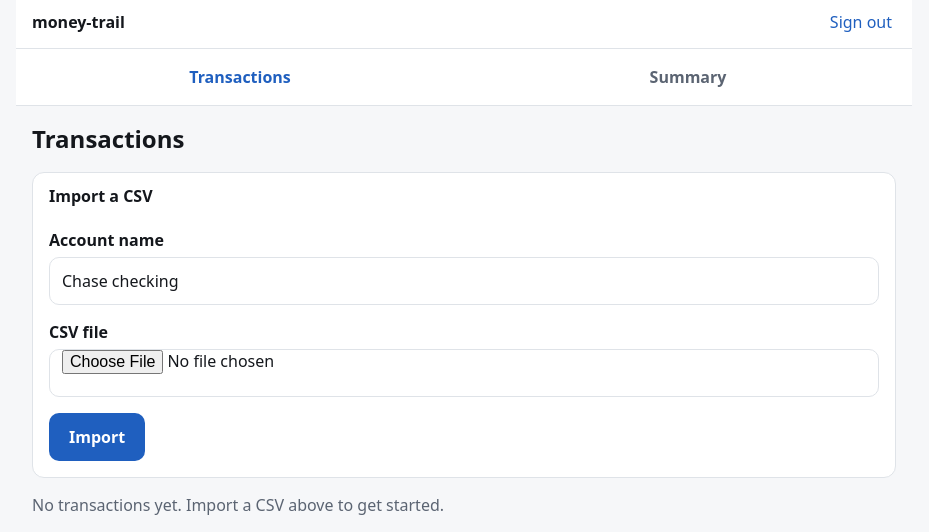
Test: session gate and routing › navigates between the two screens
Click the link "Summary" at (688, 77), box [650,66,726,88]
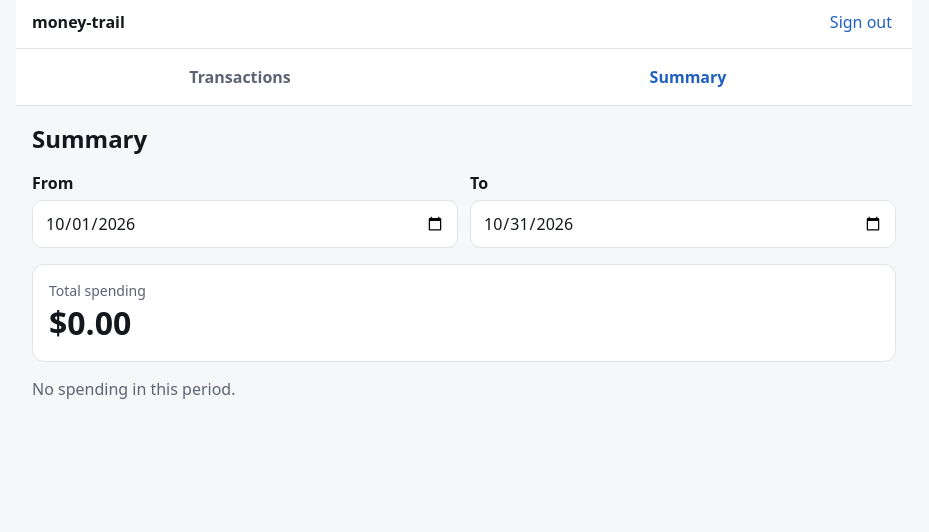
Now the heading "Summary" is shown, box [32,122,147,155]
